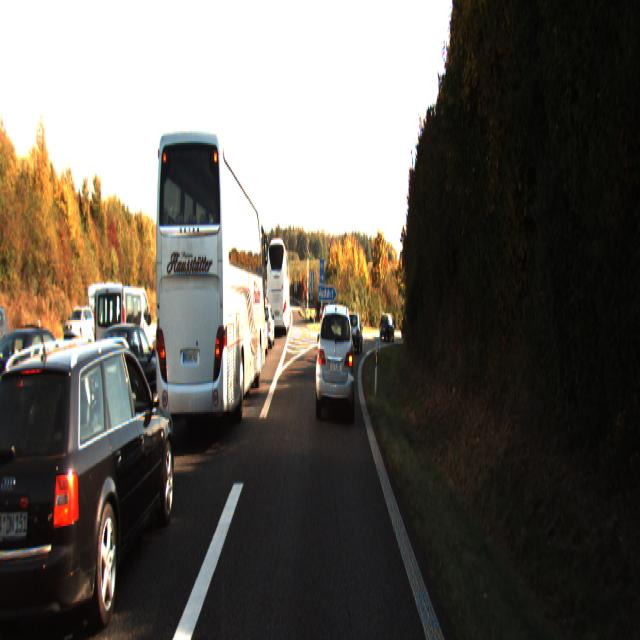Car: (0, 331, 179, 638), (0, 324, 85, 443), (90, 320, 168, 434), (315, 300, 355, 422), (346, 312, 363, 355), (378, 312, 394, 339)
Misc: (152, 122, 265, 450), (264, 240, 288, 339)
Van: (92, 282, 153, 388)
